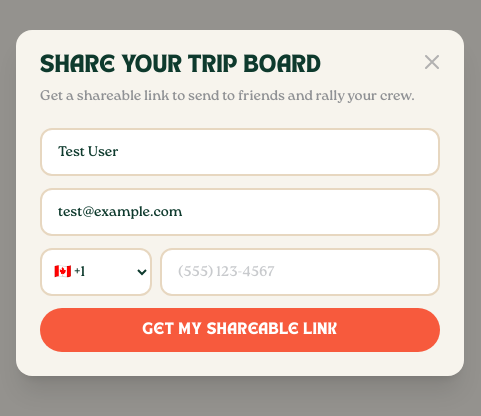
Test case: LeadCaptureModal › shows error message on API failure
The image size is (481, 416).
Click the button "Get My Shareable Link": (240, 330) [40,308,440,352]
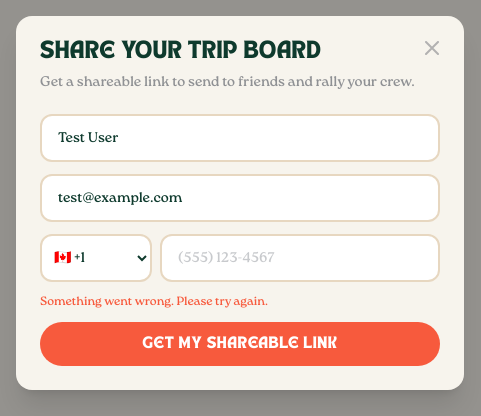
Now the text "Something went wrong. Please try again." is shown, box [40,296,268,308]
